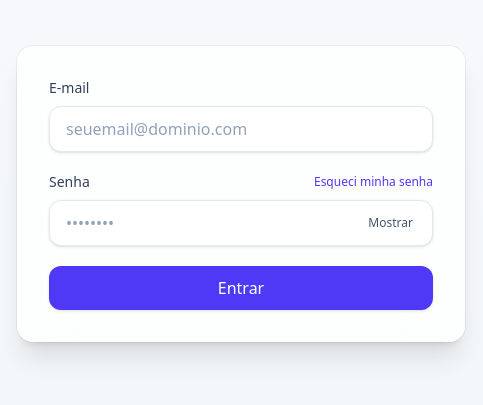
Test case: Login page › shows error message when server returns an error
Type "test@example.com" into the field with test id "email-input" at (241, 129), box [49, 106, 433, 152]
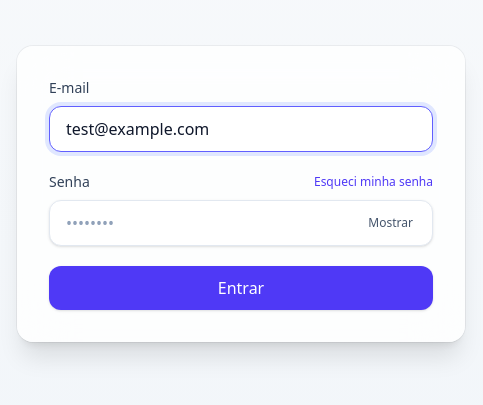
Type "password123" into the password field with test id "password-input" at (241, 223), box [49, 200, 433, 246]
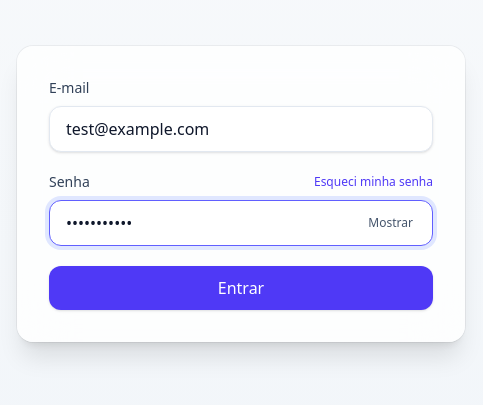
Click the button with test id "submit-button" at (241, 288), box [49, 266, 433, 310]
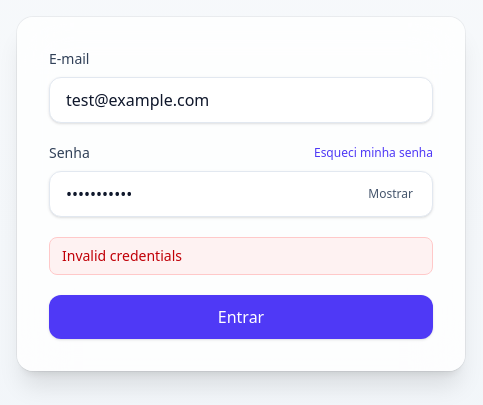
Now the text with test id "error-message" reads "Invalid credentials", box [62, 246, 182, 265]
